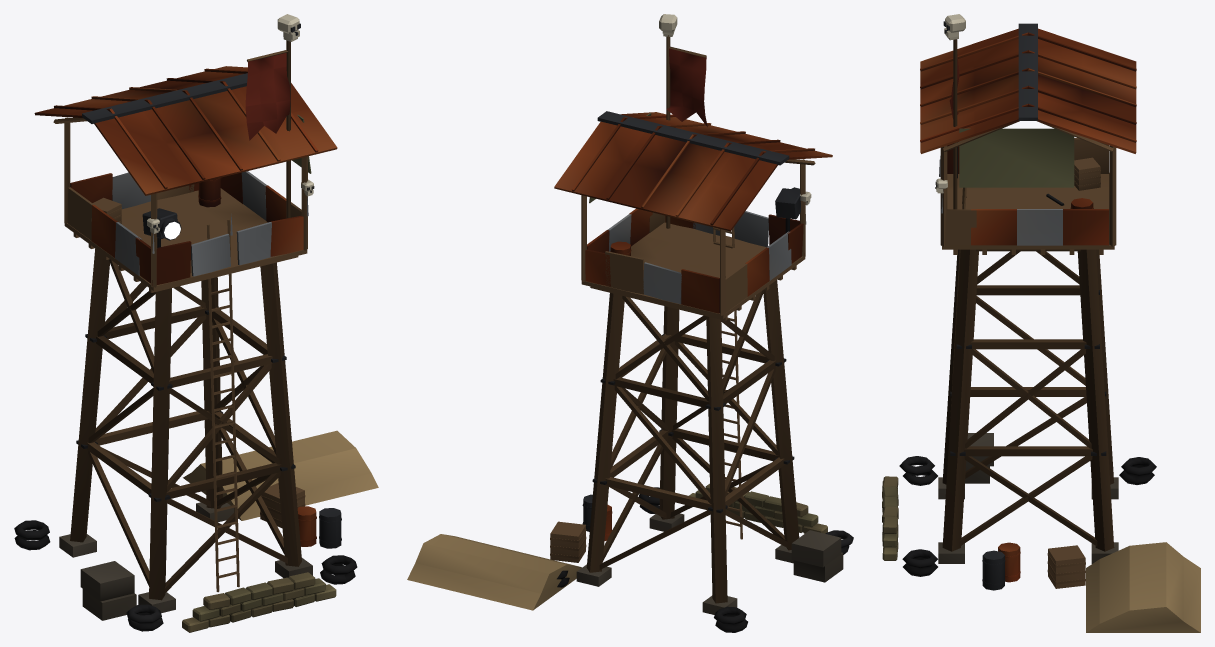
File: watchtower.glb
3 views of the same model, side by side, from view 1: azimuth 30°, elevation 25°; view 2: azimuth 150°, elevation 25°; view 3: azimuth 270°, elevation 25° (orthographic). The views are drawn at different scales.
Visible parts, largest first — view 1: wood, rust, canvas, sand, metal_bare, concrete_dark, metal_dark, rubber, bone; view 2: wood, rust, sand, canvas, concrete_dark, metal_bare, metal_dark, rubber; view 3: wood, rust, sand, canvas, metal_dark, rubber, concrete_dark, metal_bare, bone.
Part boxes in pixels (x1,y1,x2,y2): wood: (53, 40, 307, 600); rust: (34, 66, 337, 546); canvas: (182, 53, 336, 632); sand: (183, 430, 378, 520); metal_bare: (112, 171, 271, 276); concrete_dark: (59, 502, 312, 620); metal_dark: (82, 23, 341, 548); rubber: (14, 307, 357, 631); bone: (147, 14, 313, 233); wood: (550, 35, 815, 603); rust: (554, 112, 832, 541); sand: (407, 534, 581, 610); canvas: (589, 48, 827, 533); concrete_dark: (576, 513, 843, 614); metal_bare: (608, 211, 791, 304); metal_dark: (582, 111, 800, 531); rubber: (557, 333, 853, 632); wood: (940, 39, 1116, 588); rust: (920, 28, 1136, 582); sand: (1086, 542, 1200, 632); canvas: (882, 54, 1074, 560); metal_dark: (935, 21, 1037, 590); rubber: (899, 193, 1156, 576); concrete_dark: (938, 433, 1118, 563); metal_bare: (1017, 209, 1062, 245); bone: (936, 14, 965, 193).
Size of what is drawn, in the model's own units: 10.1 by 15.57 by 8.32.
